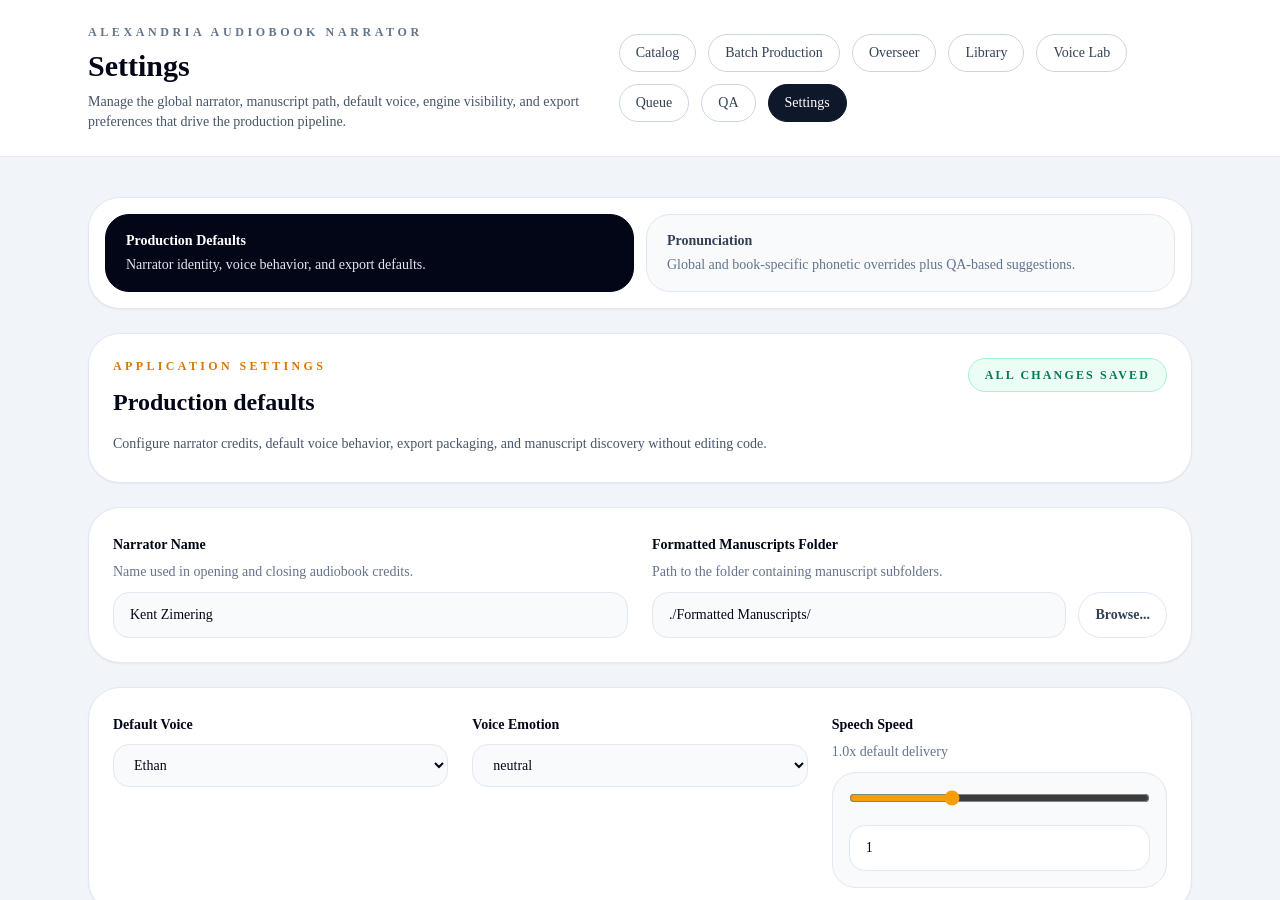
Settings page › switches to the pronunciation tab and loads pronunciation controls
Click the button that starts with "Pronunciation" at [710, 240], box x1=646 y1=214 x2=1175 y2=292
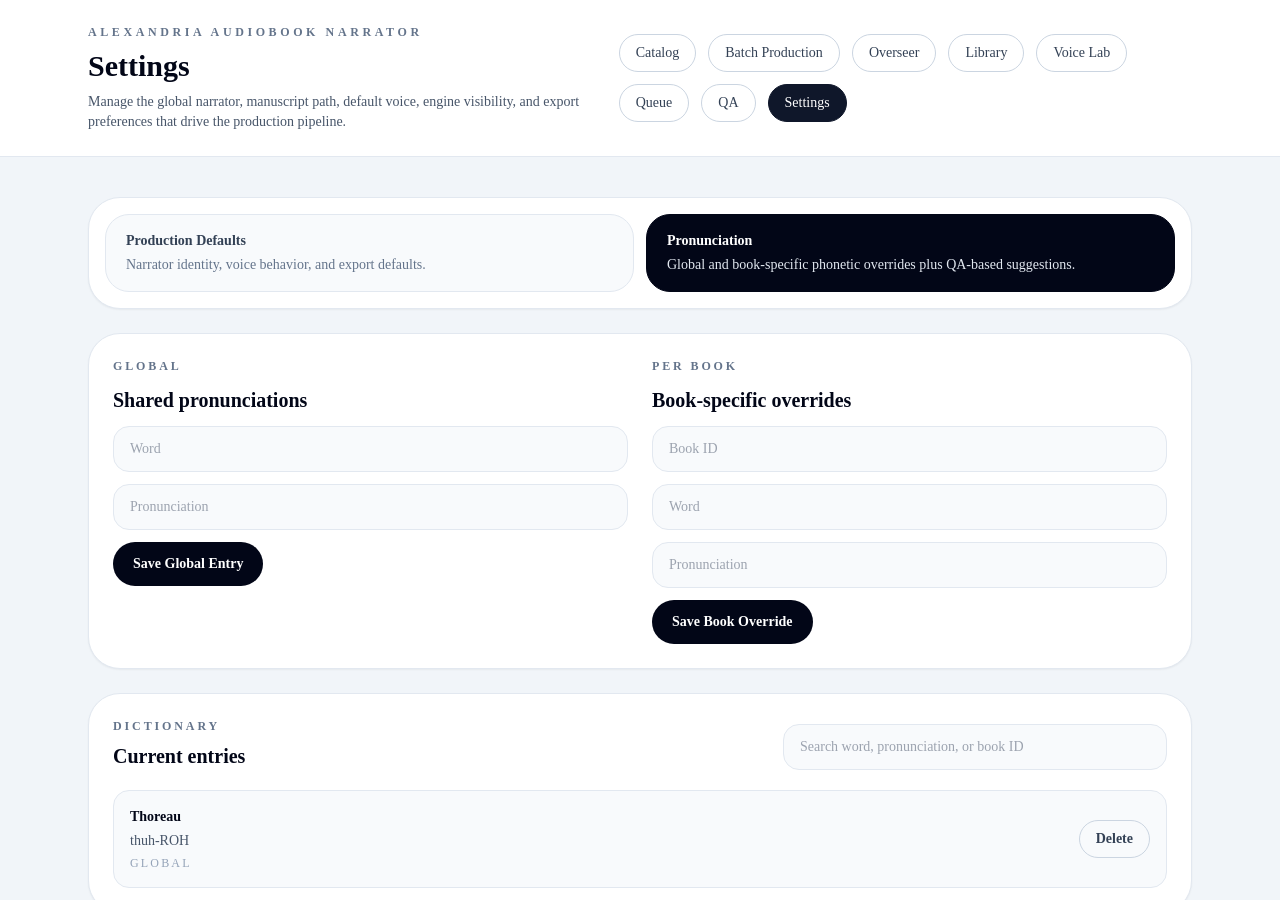
expect the text "Shared pronunciations" is shown: met, box x1=113 y1=389 x2=307 y2=411
expect the text "Thoreau" is shown: met, box x1=130 y1=809 x2=181 y2=824
